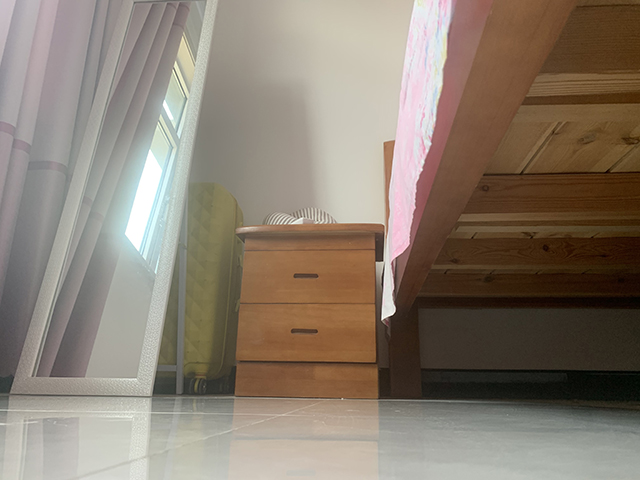bed: (381, 1, 639, 401)
cabinet: (228, 222, 387, 399)
curtain: (1, 1, 124, 378)
